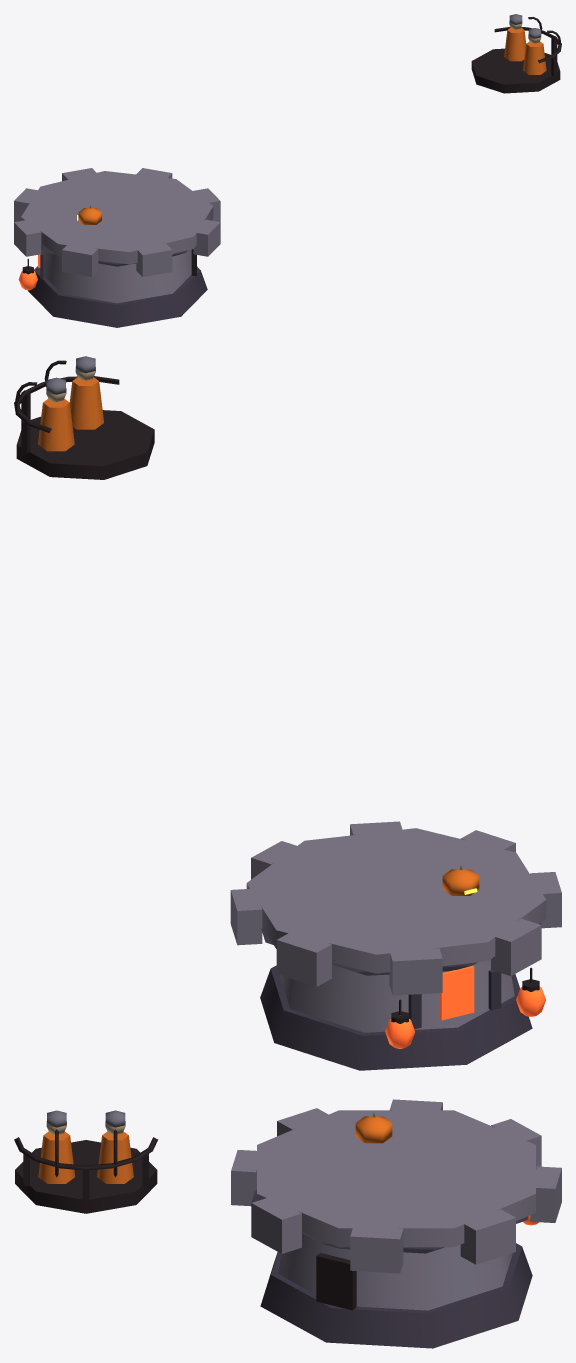
Rendered from base_standard_weapon_1.glb.
3 views of the same model, one above another, from view 1: azimuth 30°, elevation 25°; view 2: azimuth 150°, elevation 25°; view 3: azimuth 270°, elevation 25° (orthographic). The views are drawn at different scales.
Parts seen in each view (by area): view 1: tower_slot_1_plate, tower_slot_1_footing, tower_slot_1_tower, weapon_mount, tower_slot_1_merlon_6, tower_slot_1_merlon_5, tower_slot_1_merlon_7, tower_slot_1_merlon_4, archer_l_body, archer_r_body, tower_slot_1_merlon_0, tower_slot_1_merlon_3; view 2: tower_slot_1_plate, tower_slot_1_footing, tower_slot_1_tower, weapon_mount, tower_slot_1_merlon_1, tower_slot_1_merlon_0, tower_slot_1_merlon_7, tower_slot_1_merlon_2, tower_slot_1_banner, archer_l_body, archer_r_body, tower_slot_1_merlon_6; view 3: tower_slot_1_plate, tower_slot_1_footing, tower_slot_1_tower, weapon_mount, tower_slot_1_merlon_3, tower_slot_1_merlon_2, tower_slot_1_merlon_4, tower_slot_1_door, tower_slot_1_merlon_1, tower_slot_1_merlon_5, archer_l_body, archer_r_body (+6 smaller).
Part boxes in pixels (left/top/right/bottom): tower_slot_1_plate: left=21, top=171, right=213, bottom=264; tower_slot_1_footing: left=28, top=266, right=207, bottom=327; tower_slot_1_tower: left=38, top=247, right=191, bottom=303; weapon_mount: left=471, top=48, right=560, bottom=93; tower_slot_1_merlon_6: left=62, top=245, right=98, bottom=276; tower_slot_1_merlon_5: left=136, top=243, right=172, bottom=276; tower_slot_1_merlon_7: left=14, top=219, right=41, bottom=256; tower_slot_1_merlon_4: left=193, top=219, right=220, bottom=256; archer_l_body: left=504, top=27, right=526, bottom=61; archer_r_body: left=523, top=41, right=546, bottom=74; tower_slot_1_merlon_0: left=14, top=188, right=37, bottom=222; tower_slot_1_merlon_3: left=193, top=188, right=220, bottom=222; tower_slot_1_plate: left=246, top=828, right=546, bottom=973; tower_slot_1_footing: left=260, top=965, right=532, bottom=1070; tower_slot_1_tower: left=280, top=959, right=514, bottom=1032; weapon_mount: left=16, top=410, right=154, bottom=479; tower_slot_1_merlon_1: left=276, top=933, right=331, bottom=986; tower_slot_1_merlon_0: left=389, top=948, right=442, bottom=995; tower_slot_1_merlon_7: left=491, top=918, right=541, bottom=975; tower_slot_1_merlon_2: left=230, top=888, right=262, bottom=945; tower_slot_1_banner: left=440, top=965, right=474, bottom=1020; archer_l_body: left=38, top=399, right=74, bottom=451; archer_r_body: left=69, top=377, right=103, bottom=429; tower_slot_1_merlon_6: left=530, top=872, right=561, bottom=928; tower_slot_1_plate: left=257, top=1110, right=535, bottom=1247; tower_slot_1_footing: left=260, top=1243, right=532, bottom=1348; tower_slot_1_tower: left=278, top=1233, right=512, bottom=1310; weapon_mount: left=15, top=1140, right=157, bottom=1213; tower_slot_1_merlon_3: left=350, top=1226, right=403, bottom=1273; tower_slot_1_merlon_2: left=460, top=1209, right=515, bottom=1264; tower_slot_1_merlon_4: left=251, top=1198, right=301, bottom=1253; tower_slot_1_door: left=316, top=1253, right=356, bottom=1310; tower_slot_1_merlon_1: left=530, top=1166, right=561, bottom=1222; tower_slot_1_merlon_5: left=231, top=1150, right=261, bottom=1206; archer_l_body: left=97, top=1131, right=133, bottom=1183; archer_r_body: left=38, top=1131, right=74, bottom=1183.
Size of the model in its own units: 0.9305 by 0.5448 by 0.6532.
